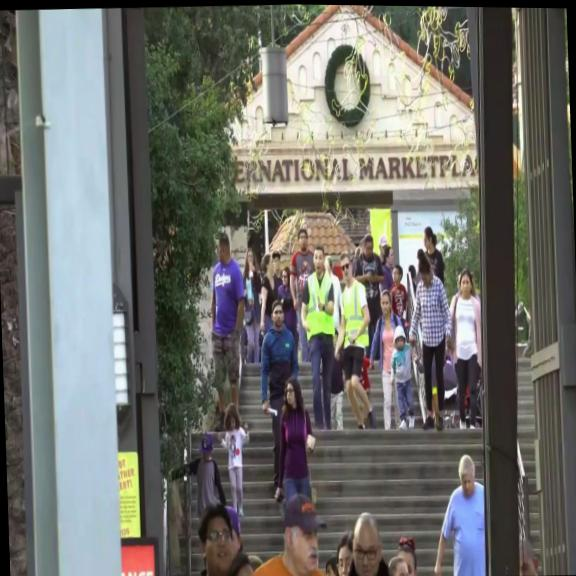safety_vest: (302, 269, 336, 341), (340, 279, 369, 351)
